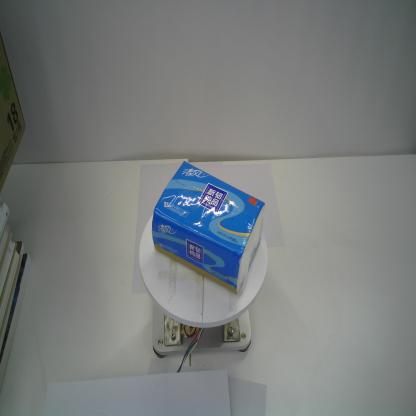Tissue: (151, 159, 266, 295)
